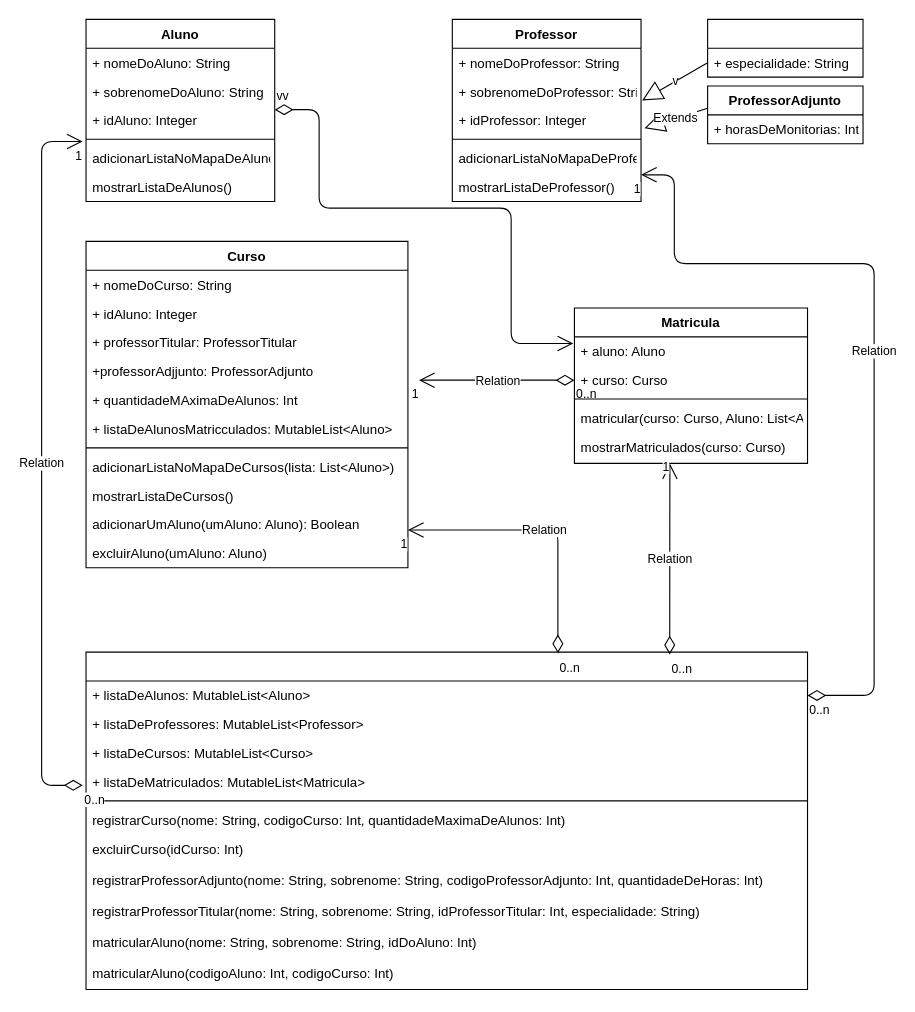
The diagram is 915 pixels wide and 1012 high, and some of its shapes have lost their labels. The box of each missing label's shape, as (x1, y1, x2, y2) in pixels:
DigitalHouseManager: (85, 651, 808, 990)
ProfessorTitular: (707, 18, 863, 77)
